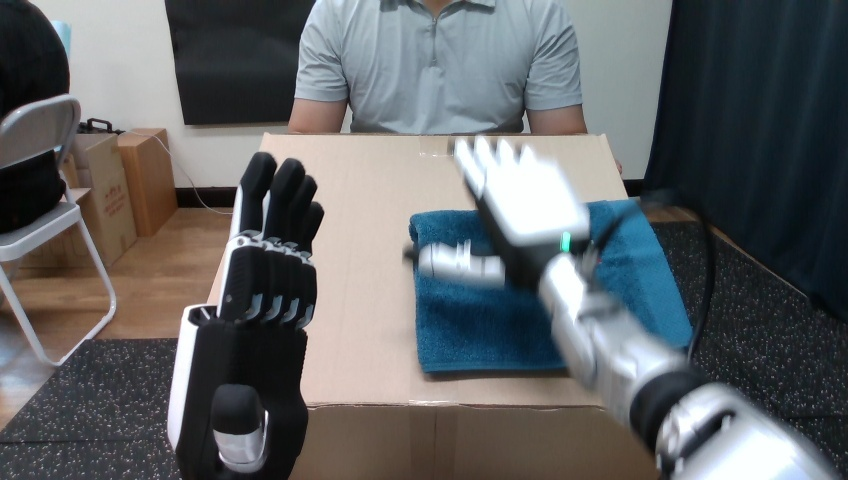left robot hand: (416, 136, 835, 478), (168, 152, 323, 478)
